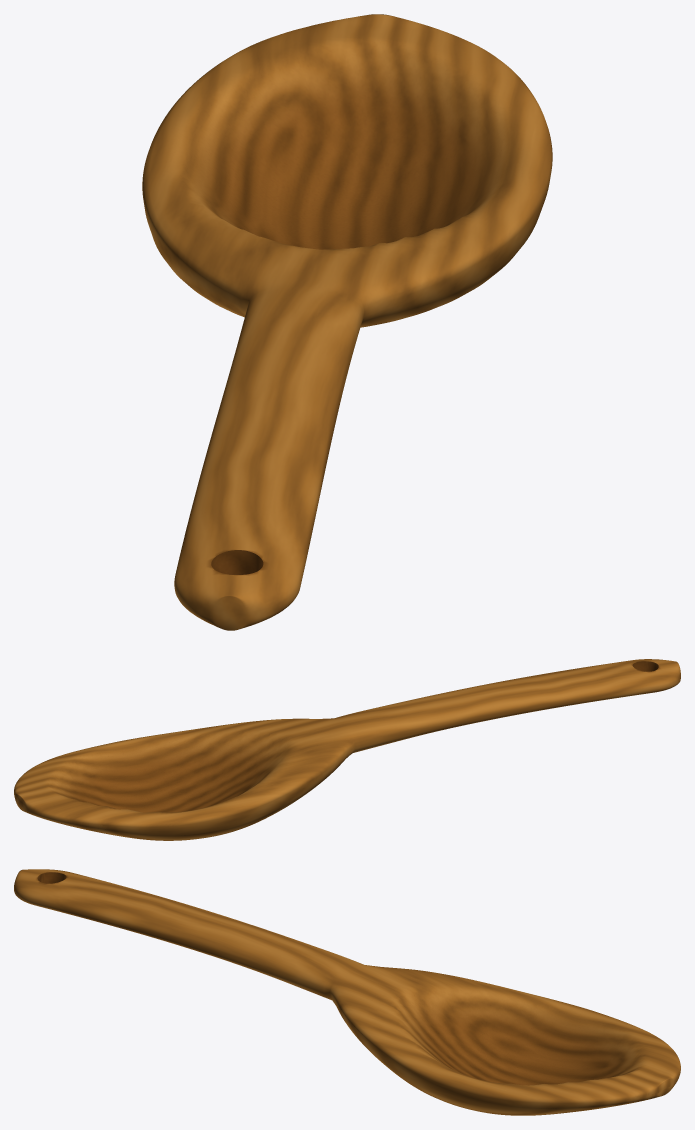
Rendered from sendok.glb.
3 views of the same model, one above another, from view 1: azimuth 30°, elevation 25°; view 2: azimuth 150°, elevation 25°; view 3: azimuth 270°, elevation 25° (orthographic). The views are drawn at different scales.
Visible parts, largest first — view 1: WoodenSpoon; view 2: WoodenSpoon; view 3: WoodenSpoon.
Boxes of the visible parts, bbox=[...] form: WoodenSpoon: bbox=[142, 14, 552, 630]; WoodenSpoon: bbox=[14, 659, 680, 840]; WoodenSpoon: bbox=[14, 869, 680, 1115].
Bounding box in the file's own units: 0.168 × 0.0284 × 0.2168.
Materials: 1 (1 with a texture image).
